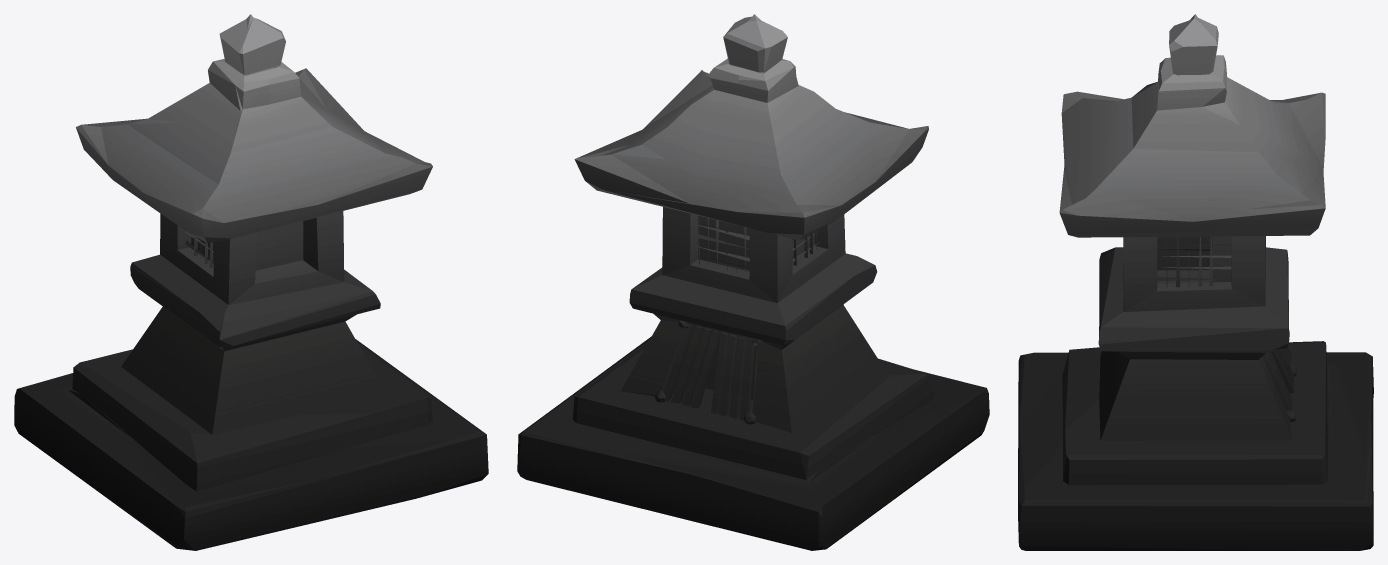
Rendered from EA_Grave_Lantern_Stone_01a.glb.
3 renders of one model, left to right at view 1: azimuth 30°, elevation 25°; view 2: azimuth 150°, elevation 25°; view 3: azimuth 270°, elevation 25°, orthographic. The views are drawn at different scales.
Parts seen in each view (by area): view 1: EA_Grave_Lantern_Stone_01a; view 2: EA_Grave_Lantern_Stone_01a; view 3: EA_Grave_Lantern_Stone_01a.
Boxes of the visible parts, x1,y1,x2,y2 form: EA_Grave_Lantern_Stone_01a: (14, 14, 488, 550); EA_Grave_Lantern_Stone_01a: (517, 14, 989, 550); EA_Grave_Lantern_Stone_01a: (1018, 14, 1373, 550).
Size of the model in its own units: 2.01 by 2.78 by 1.94.
1 material, 1 textured.
